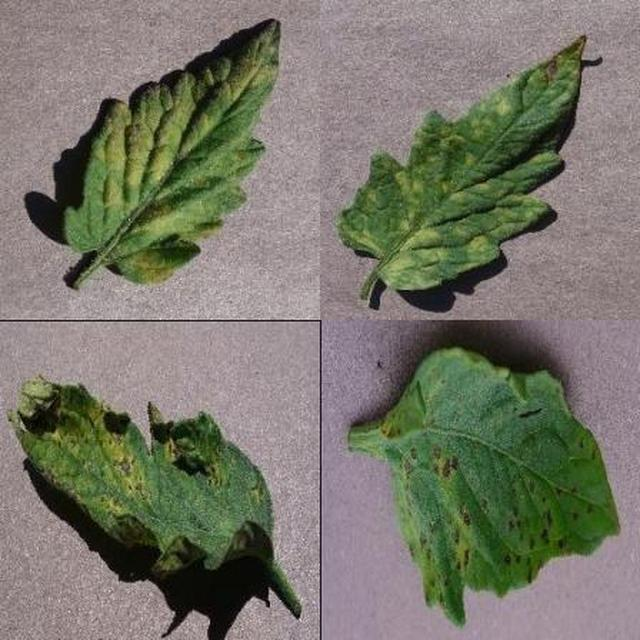Leaf Mold: (202, 216, 640, 640)
